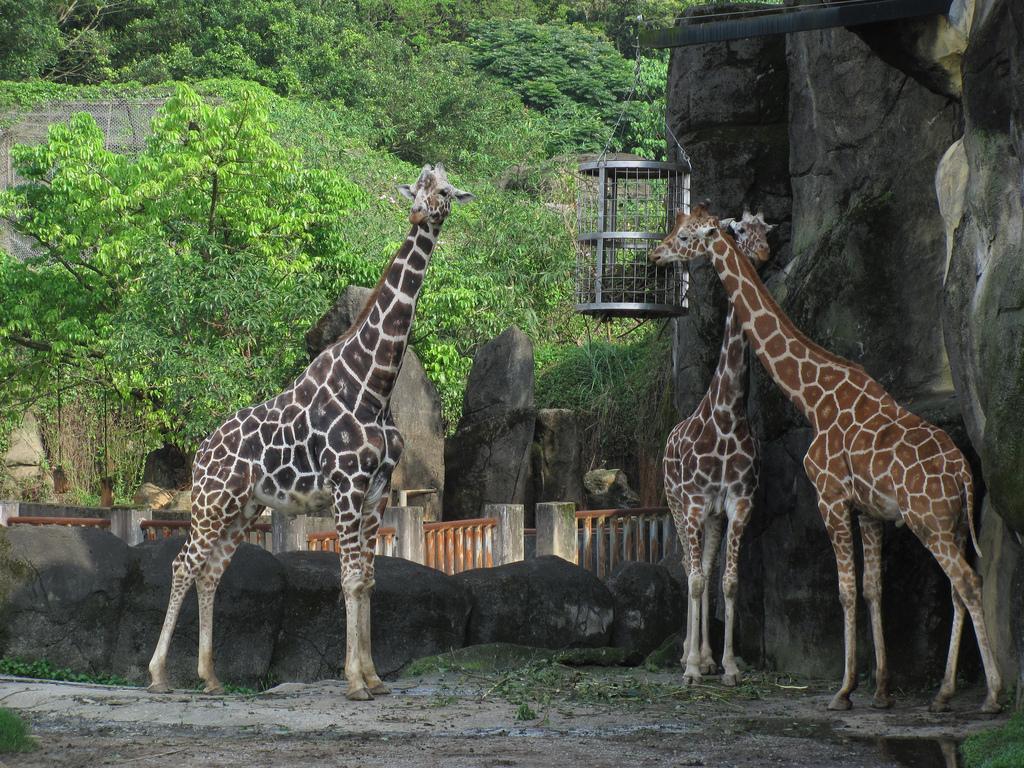giraffe: (118, 144, 502, 707), (642, 205, 1006, 701), (672, 184, 781, 679)
